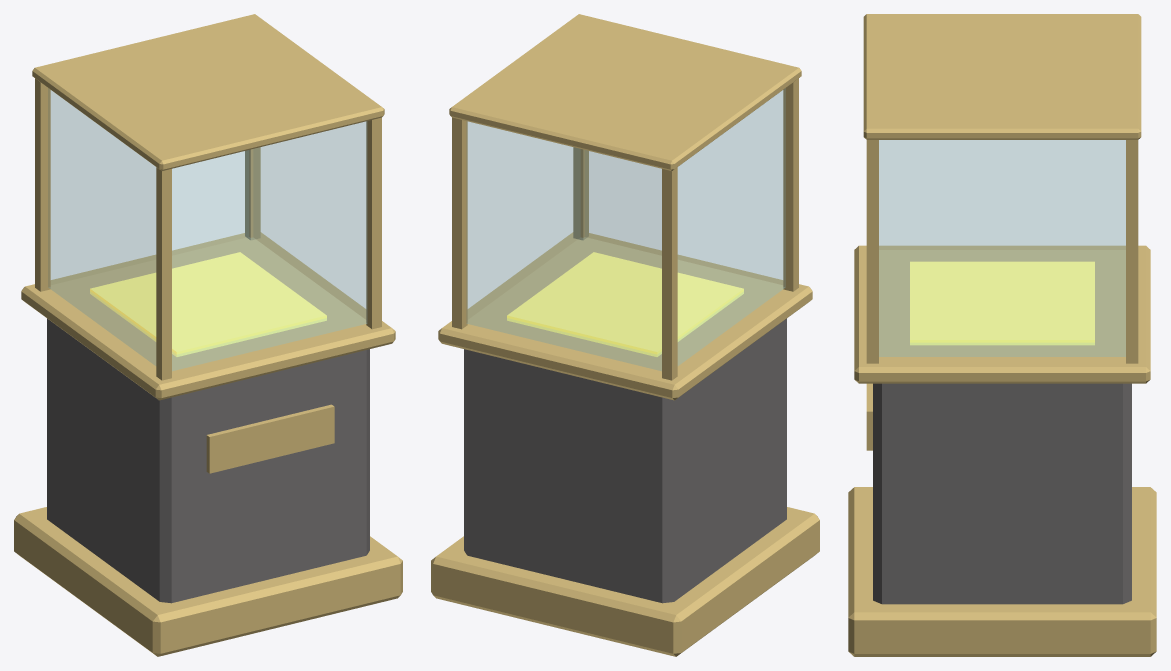
File: lt_trophy_wk.glb
3 renders of one model, left to right at view 1: azimuth 30°, elevation 25°; view 2: azimuth 150°, elevation 25°; view 3: azimuth 270°, elevation 25°, orthographic. The views are drawn at different scales.
Parts seen in each view (by area): view 1: lt_trophy_wk; view 2: lt_trophy_wk; view 3: lt_trophy_wk.
Part boxes in pixels (x1=…): lt_trophy_wk: x1=14, y1=14, x2=402, y2=656; lt_trophy_wk: x1=431, y1=14, x2=819, y2=656; lt_trophy_wk: x1=848, y1=14, x2=1156, y2=656.
Bounding box in the file's own units: 1 × 1.87 × 1.
